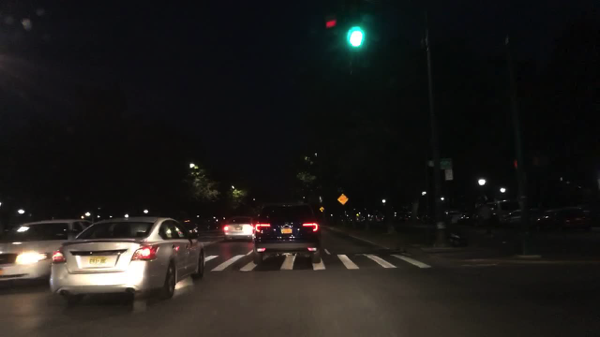car: (49, 217, 206, 305), (0, 219, 95, 282), (253, 204, 320, 264), (534, 204, 593, 231), (469, 198, 514, 226), (221, 215, 255, 242), (501, 207, 541, 229), (182, 220, 198, 239), (458, 210, 475, 226), (443, 210, 458, 223), (394, 211, 410, 220), (419, 213, 429, 223), (375, 214, 384, 223), (367, 215, 375, 223), (357, 216, 364, 225)
traffic light: (323, 11, 342, 52), (347, 11, 362, 49), (531, 152, 550, 166), (512, 158, 518, 169)
traffic sign: (336, 192, 349, 206), (438, 159, 452, 169), (444, 169, 451, 181), (318, 206, 323, 213)
